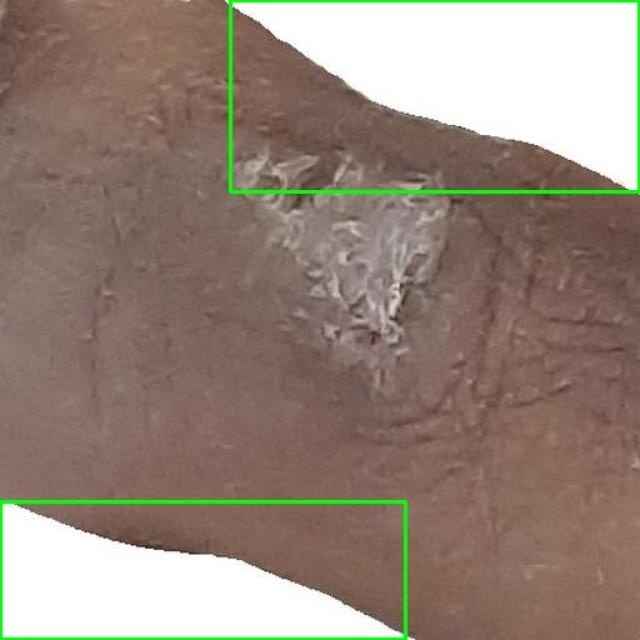Contact Dermatitis: (230, 0, 639, 191), (0, 501, 406, 639)
